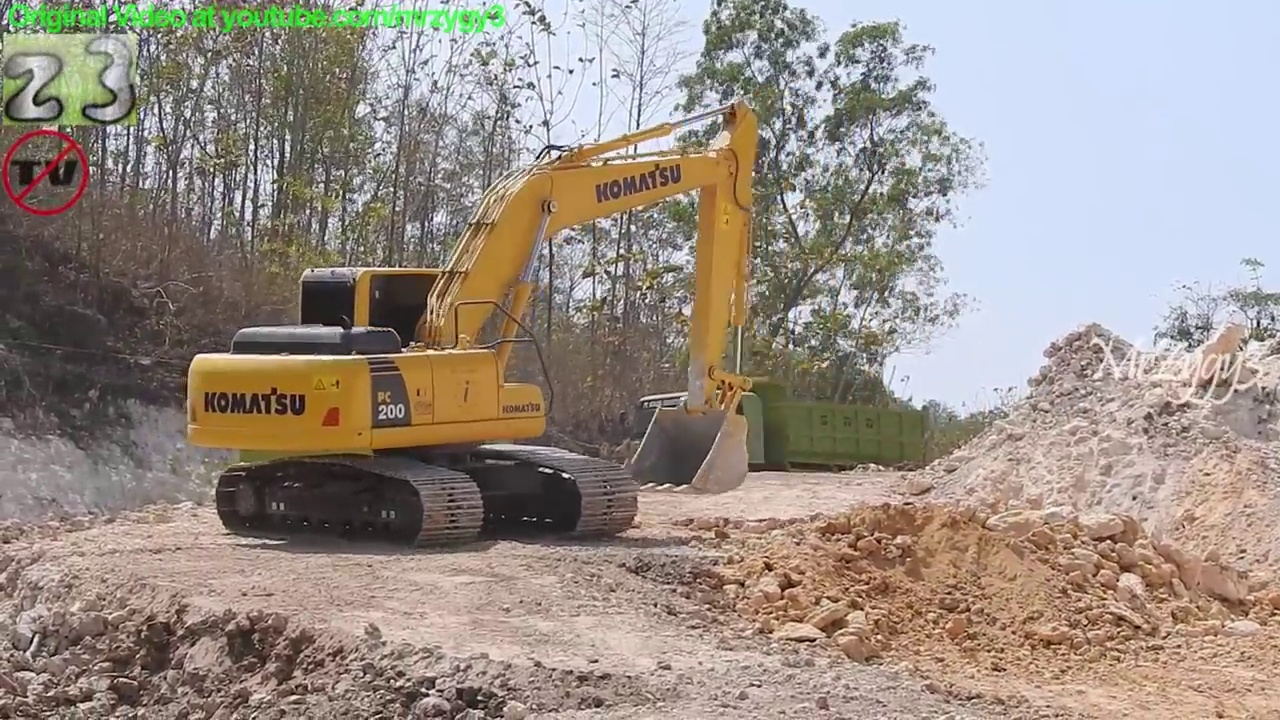excavator: (179, 98, 762, 555)
truck: (615, 388, 930, 513)
